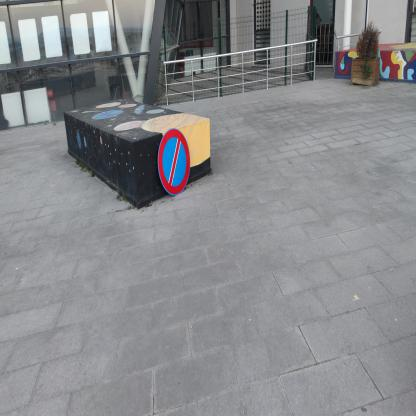No Waiting: (159, 130, 191, 196)
